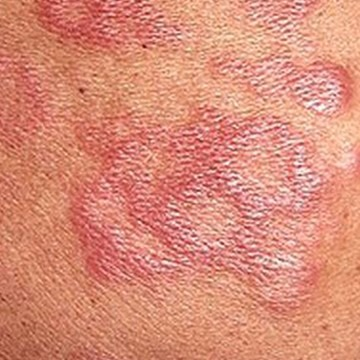Leprosy: (69, 112, 329, 313), (204, 46, 355, 113), (18, 0, 198, 50), (0, 51, 52, 159), (223, 0, 322, 46)
